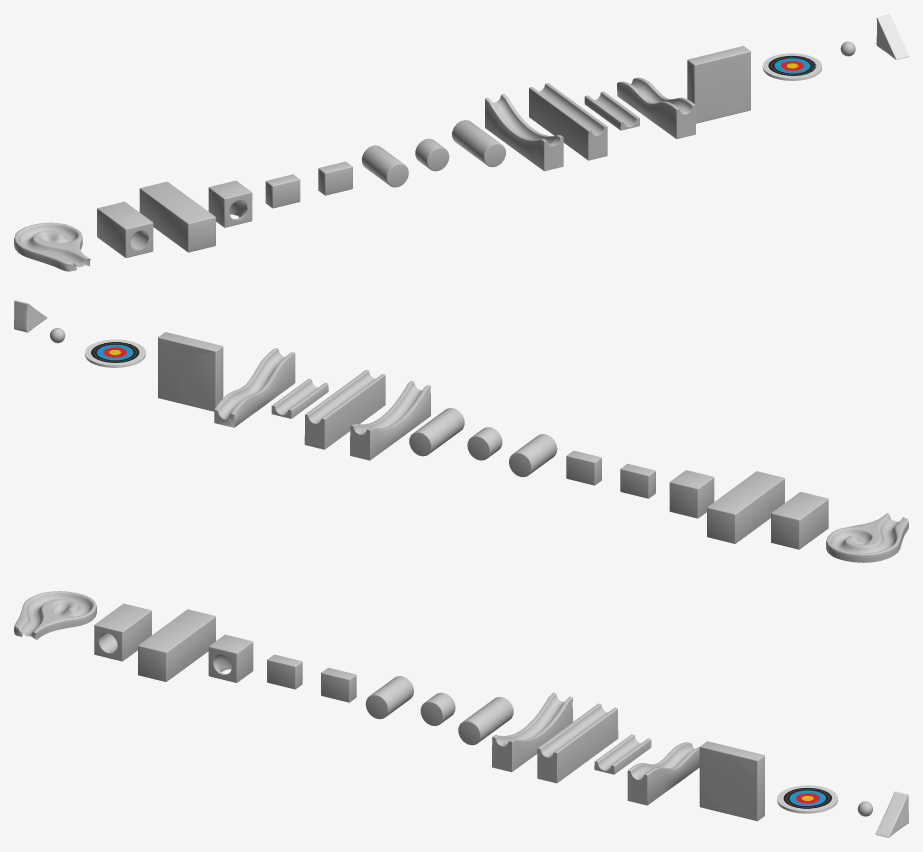
The model's file is Marbleset yeah2.fbx.
3 views of the same model, one above another, from view 1: azimuth 30°, elevation 25°; view 2: azimuth 150°, elevation 25°; view 3: azimuth 330°, elevation 25° (orthographic). The views are drawn at different scales.
Visible parts, largest first — view 1: Marble_Track_Piece_08, Marble_Track_Piece_40, Marble_Track_Piece_01, Marble_Track_Piece_06, Marble_Track_Piece_00, Marble_Track_Piece_05, Marble_Track_Piece_11, Marble_Track_Piece_10, Marble_Track_Piece_16, Cylinder, Marble_Track_Piece_24, Marble_Track_Piece_03 (+4 smaller); view 2: Marble_Track_Piece_08, Marble_Track_Piece_40, Marble_Track_Piece_01, Marble_Track_Piece_06, Marble_Track_Piece_05, Marble_Track_Piece_00, Marble_Track_Piece_11, Marble_Track_Piece_10, Marble_Track_Piece_16, Cylinder, Marble_Track_Piece_24, Marble_Track_Piece_03 (+4 smaller); view 3: Marble_Track_Piece_08, Marble_Track_Piece_40, Marble_Track_Piece_01, Marble_Track_Piece_06, Marble_Track_Piece_00, Marble_Track_Piece_05, Marble_Track_Piece_11, Marble_Track_Piece_10, Marble_Track_Piece_16, Cylinder, Marble_Track_Piece_24, Marble_Track_Piece_03 (+4 smaller).
Part boxes in pixels (box(x1,y1,x2,y2)): Marble_Track_Piece_08: box(687, 46, 750, 123); Marble_Track_Piece_40: box(139, 181, 215, 252); Marble_Track_Piece_01: box(529, 83, 607, 160); Marble_Track_Piece_06: box(485, 93, 563, 171); Marble_Track_Piece_00: box(14, 222, 90, 271); Marble_Track_Piece_05: box(617, 77, 695, 138); Marble_Track_Piece_11: box(97, 201, 153, 257); Marble_Track_Piece_10: box(208, 180, 252, 227); Marble_Track_Piece_16: box(452, 120, 505, 167); Cylinder: box(762, 53, 821, 80); Marble_Track_Piece_24: box(362, 145, 408, 187); Marble_Track_Piece_03: box(584, 91, 639, 130); Marble_Track_Piece_08: box(158, 332, 223, 411); Marble_Track_Piece_40: box(707, 471, 784, 543); Marble_Track_Piece_01: box(304, 370, 385, 449); Marble_Track_Piece_06: box(350, 381, 430, 460); Marble_Track_Piece_05: box(214, 348, 295, 427); Marble_Track_Piece_00: box(826, 513, 908, 562); Marble_Track_Piece_11: box(771, 492, 828, 549); Marble_Track_Piece_10: box(669, 470, 714, 518); Marble_Track_Piece_16: box(409, 408, 464, 456); Cylinder: box(85, 339, 145, 367); Marble_Track_Piece_24: box(509, 434, 557, 477); Marble_Track_Piece_03: box(271, 378, 328, 418); Marble_Track_Piece_08: box(699, 741, 764, 821); Marble_Track_Piece_40: box(138, 609, 215, 681); Marble_Track_Piece_01: box(537, 703, 618, 783); Marble_Track_Piece_06: box(492, 692, 572, 772); Marble_Track_Piece_00: box(14, 591, 96, 639); Marble_Track_Piece_05: box(627, 742, 699, 805); Marble_Track_Piece_11: box(94, 603, 151, 661); Marble_Track_Piece_10: box(208, 634, 253, 682); Marble_Track_Piece_16: box(458, 697, 513, 745); Cylinder: box(777, 785, 837, 813); Marble_Track_Piece_24: box(365, 676, 413, 719); Marble_Track_Piece_03: box(594, 734, 651, 774).
Size of the model in its own units: 247 by 16.28 by 29.52.
4 materials, 1 textured.
